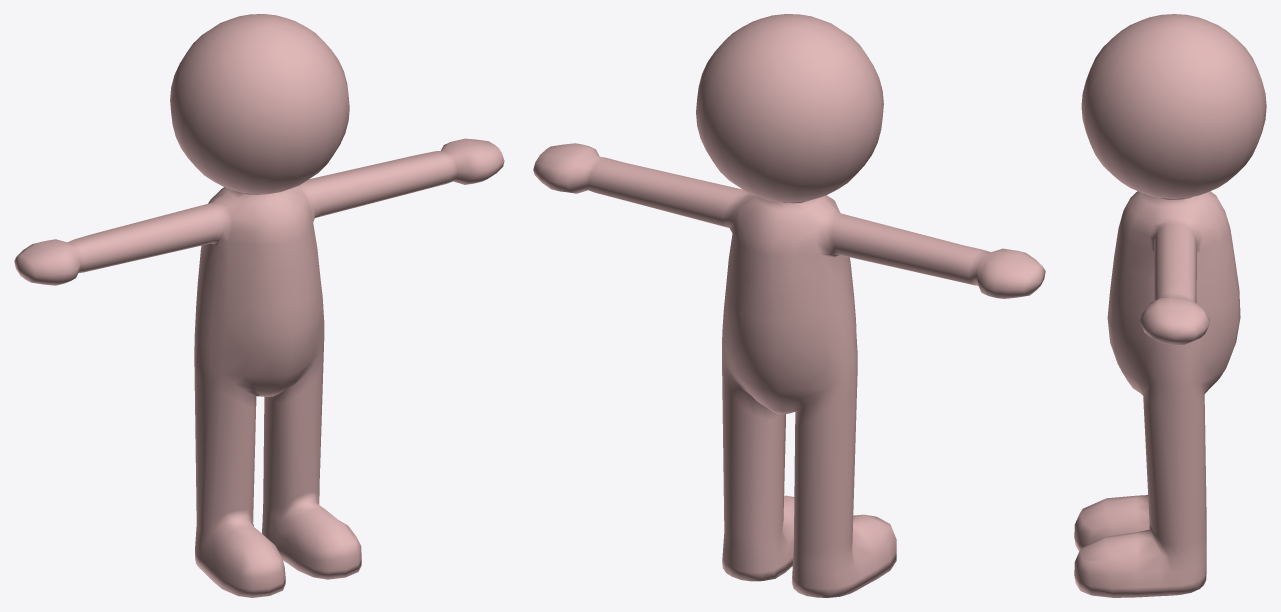
The model's file is stickman.glb.
3 views of the same model, side by side, from view 1: azimuth 30°, elevation 25°; view 2: azimuth 150°, elevation 25°; view 3: azimuth 270°, elevation 25° (orthographic). The views are drawn at different scales.
Visible parts, largest first — view 1: Object_2; view 2: Object_2; view 3: Object_2.
Part boxes in pixels (bbox=[...]): Object_2: bbox=[14, 14, 504, 597]; Object_2: bbox=[533, 14, 1045, 597]; Object_2: bbox=[1074, 14, 1266, 597].
Size of the model in its own units: 4.28 by 4.5 by 1.45.
